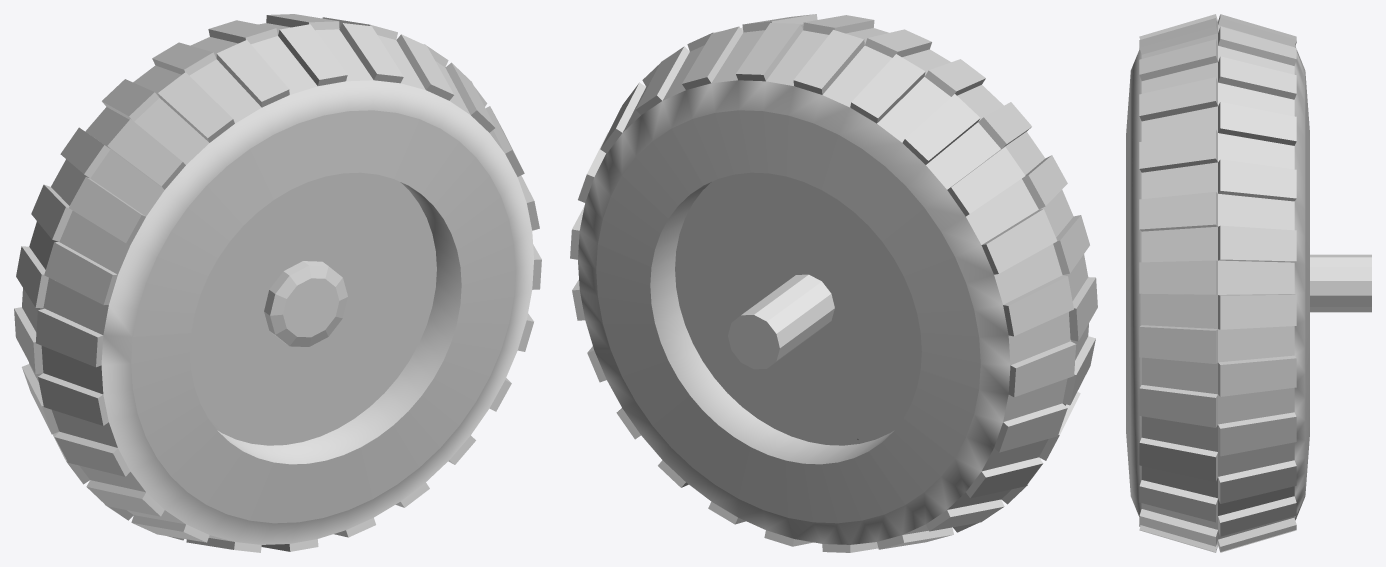
Rendered from wheel_normal.fbx.
The picture shows the model from 3 angles, left to right: view 1: azimuth 30°, elevation 25°; view 2: azimuth 150°, elevation 25°; view 3: azimuth 270°, elevation 25°; orthographic projection. The views are drawn at different scales.
Visible parts, largest first — view 1: Torus, Cylinder, Cylinder.002; view 2: Torus, Cylinder, Cylinder.001; view 3: Torus, Cylinder.001.
Part boxes in pixels (x1,y1,x2,y2): Torus: (14, 14, 541, 552); Cylinder: (190, 172, 436, 445); Cylinder.002: (264, 261, 347, 346); Torus: (570, 14, 1097, 552); Cylinder: (675, 172, 921, 445); Cylinder.001: (728, 274, 834, 369); Torus: (1126, 14, 1309, 552); Cylinder.001: (1310, 254, 1371, 312).
Bounding box in the file's own units: 0.9594 × 0.9594 × 0.4369.
Materials: 2 (1 with a texture image).
